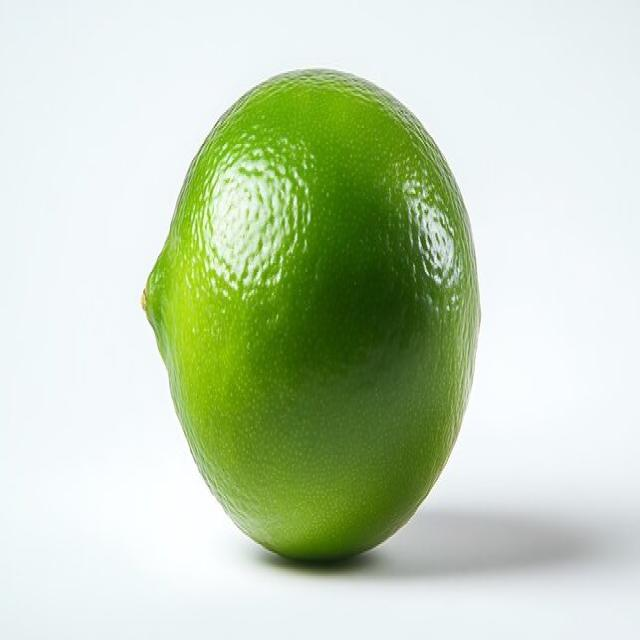Lemon: (140, 66, 482, 564)
